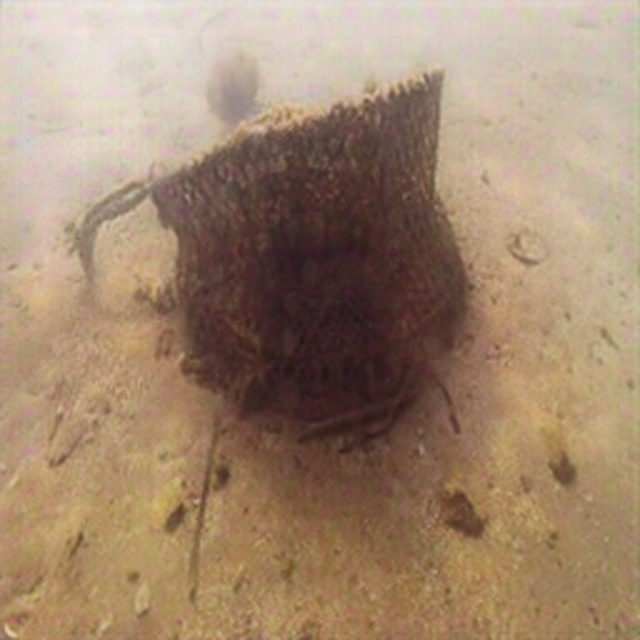mine: (144, 55, 466, 399)
